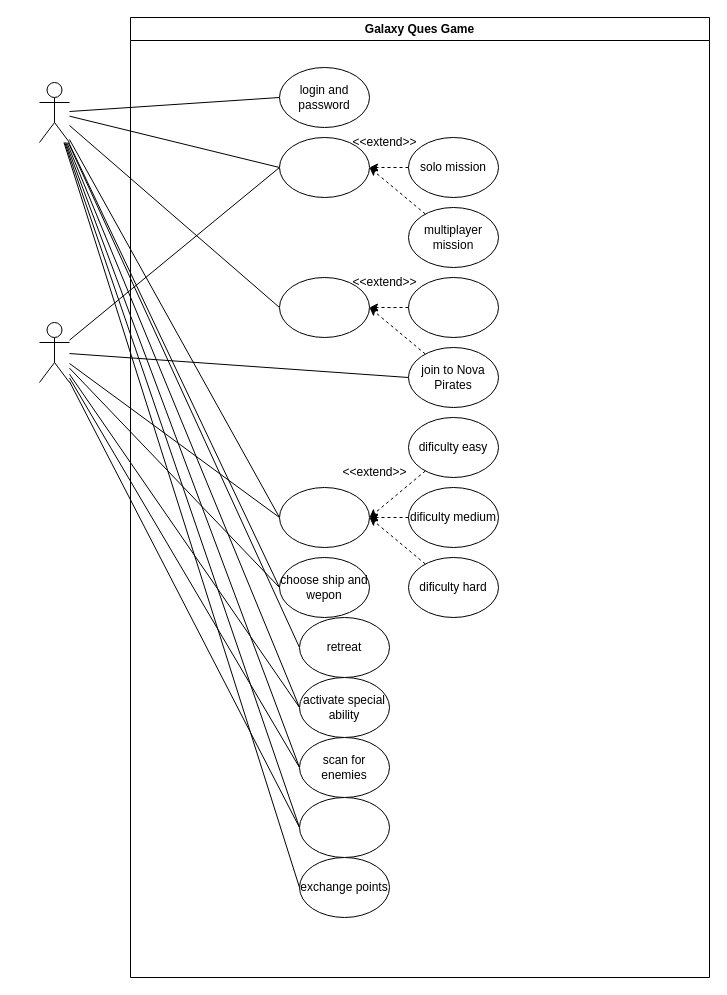
This 727x995 diagram has some shape labels left out. The centre of each missing label's shape, as x and y in pixels:
"attack" goes at point 344,827.
"choose dificulty" goes at point 324,517.
"embark on mission" goes at point 324,167.
"Guest user" goes at point 54,352.
"join to United Earth Federation" goes at point 453,307.
"Registed user" goes at point 54,112.
"select faction" goes at point 324,307.
